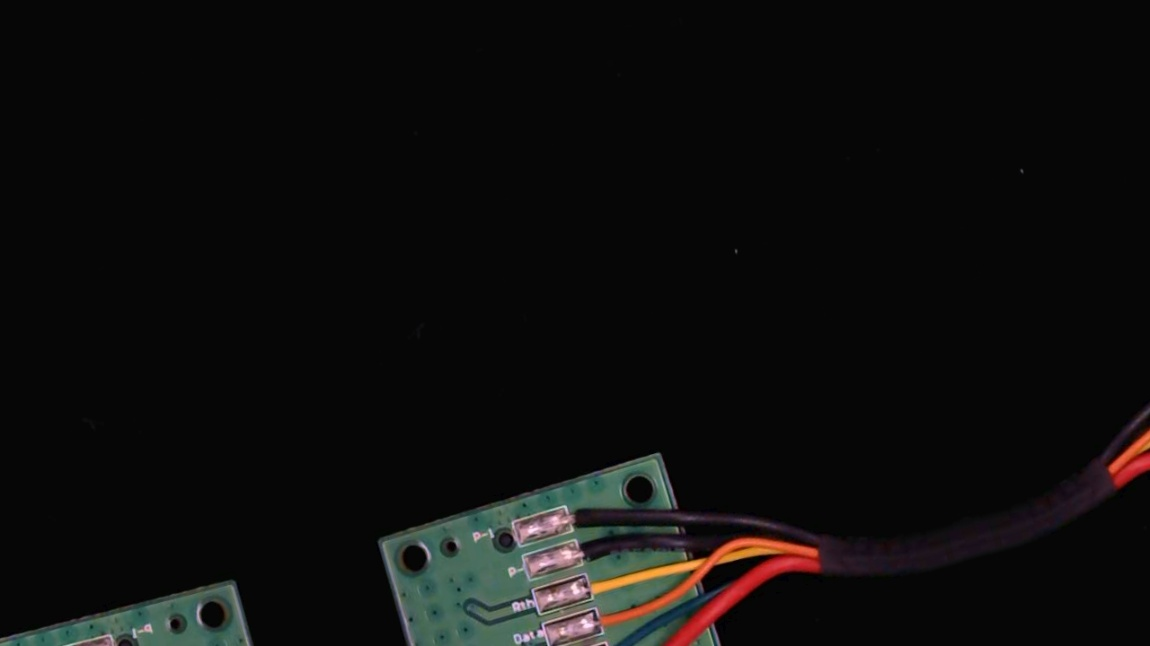Black: (562, 527, 626, 572)
Black1: (550, 491, 616, 536), (11, 642, 77, 646)
Green: (591, 630, 652, 646)
Orange: (581, 597, 640, 641)
Yellow: (570, 564, 633, 606)
